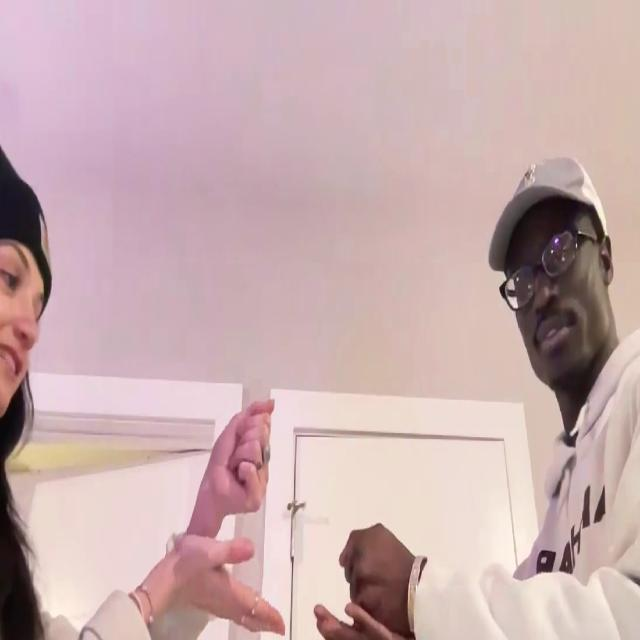Rock: (206, 398, 274, 520), (340, 521, 410, 631)
